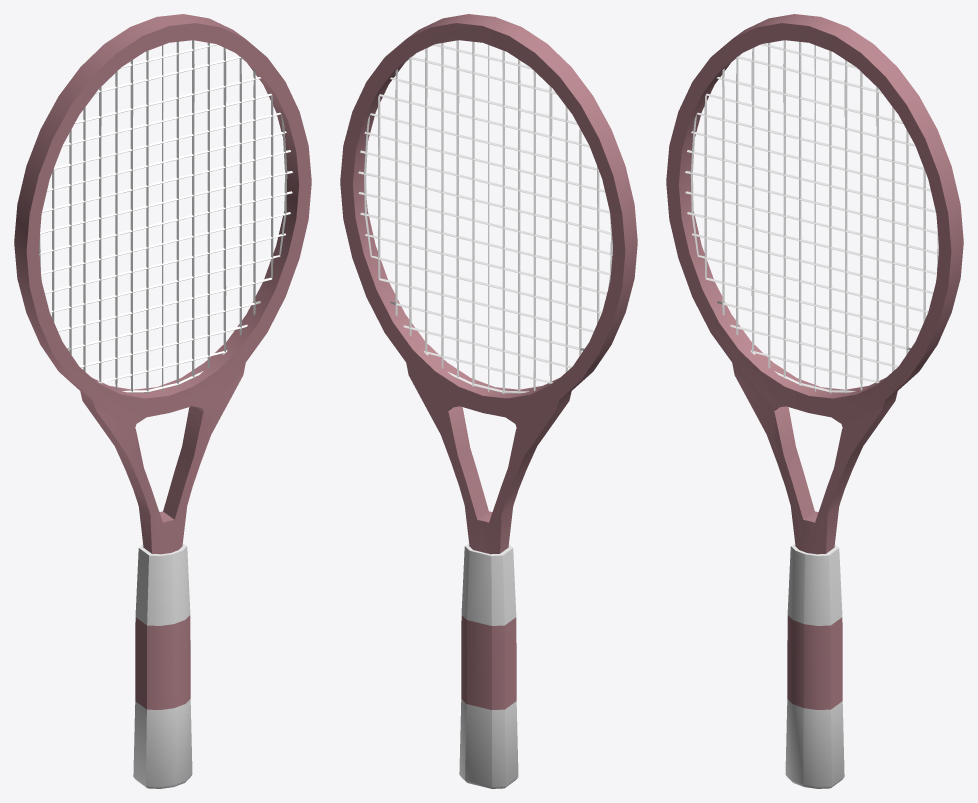
The model's file is Tennis Racket_2.fbx.
3 renders of one model, left to right at view 1: azimuth 30°, elevation 25°; view 2: azimuth 150°, elevation 25°; view 3: azimuth 330°, elevation 25°, orthographic.
Visible parts, largest first — view 1: Tennis Racket_2; view 2: Tennis Racket_2; view 3: Tennis Racket_2.
Part boxes in pixels (x1=…): Tennis Racket_2: x1=14, y1=14, x2=311, y2=788; Tennis Racket_2: x1=340, y1=14, x2=637, y2=788; Tennis Racket_2: x1=666, y1=14, x2=963, y2=788.
Bounding box in the file's own units: 0.232 × 0.5887 × 0.0312.
